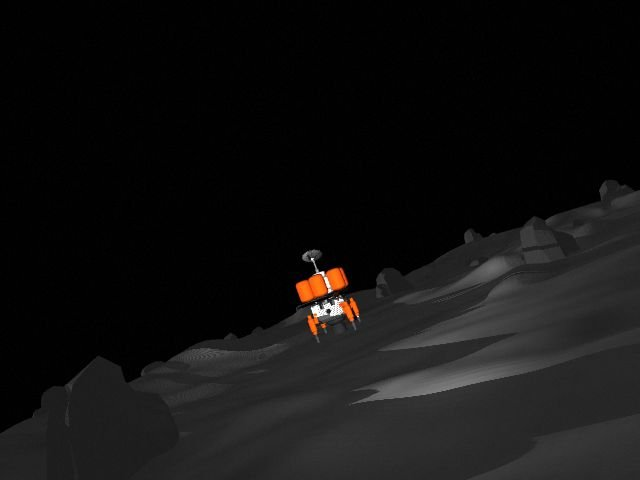homebase: (291, 246, 367, 346)
